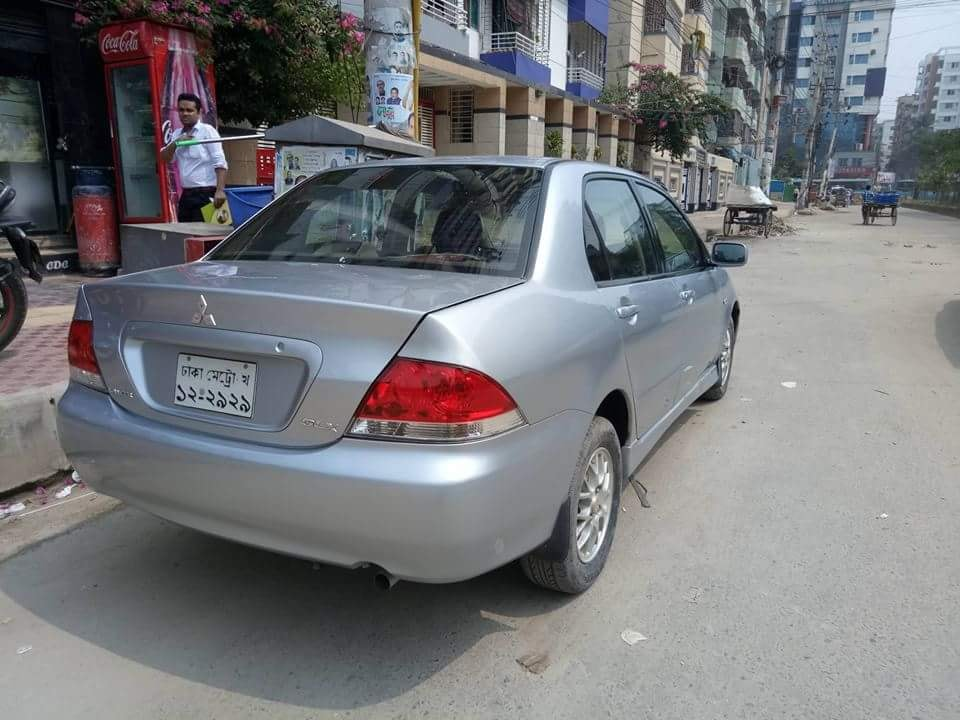registration_plate: (173, 352, 258, 419)
